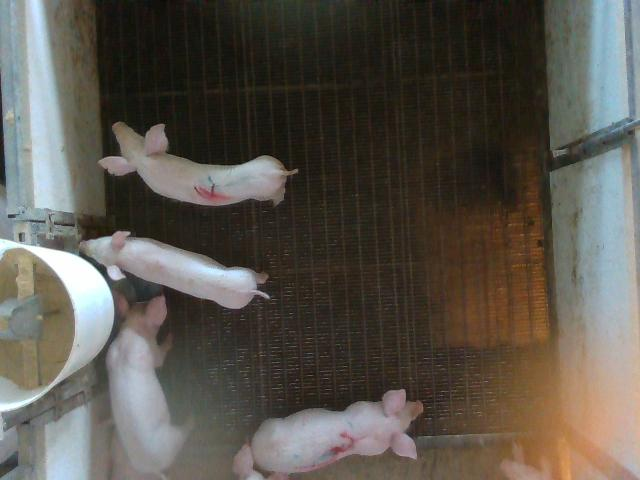pig-3: (250, 389, 422, 473)
pig-4: (99, 122, 298, 206)
